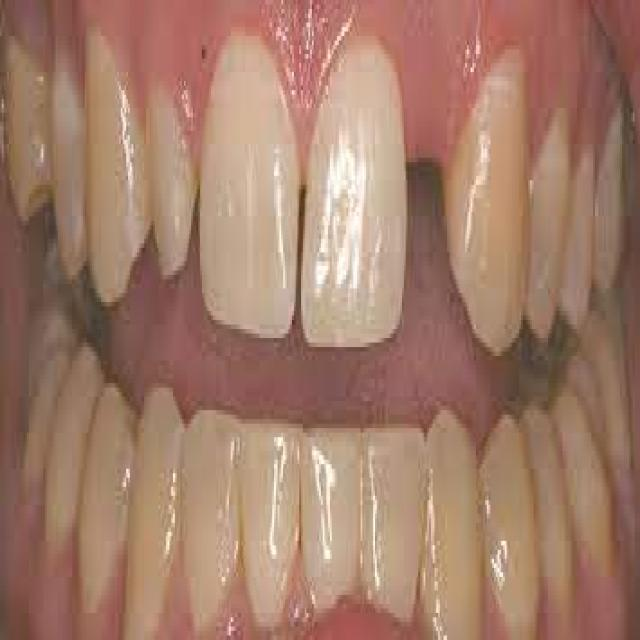tooth: (200, 27, 301, 356), (305, 45, 404, 374), (451, 32, 532, 356), (121, 356, 189, 636), (88, 18, 150, 311), (510, 392, 579, 636), (519, 68, 575, 352), (178, 369, 236, 640), (409, 419, 480, 636), (557, 370, 613, 618), (476, 383, 530, 640), (38, 306, 97, 528), (240, 401, 296, 631), (355, 424, 418, 626), (74, 379, 130, 604), (299, 401, 357, 613), (148, 45, 195, 298), (2, 4, 52, 230), (7, 325, 81, 473), (54, 45, 87, 289), (557, 171, 602, 338), (588, 90, 626, 284), (580, 347, 622, 496), (32, 306, 67, 388), (590, 320, 618, 415)
